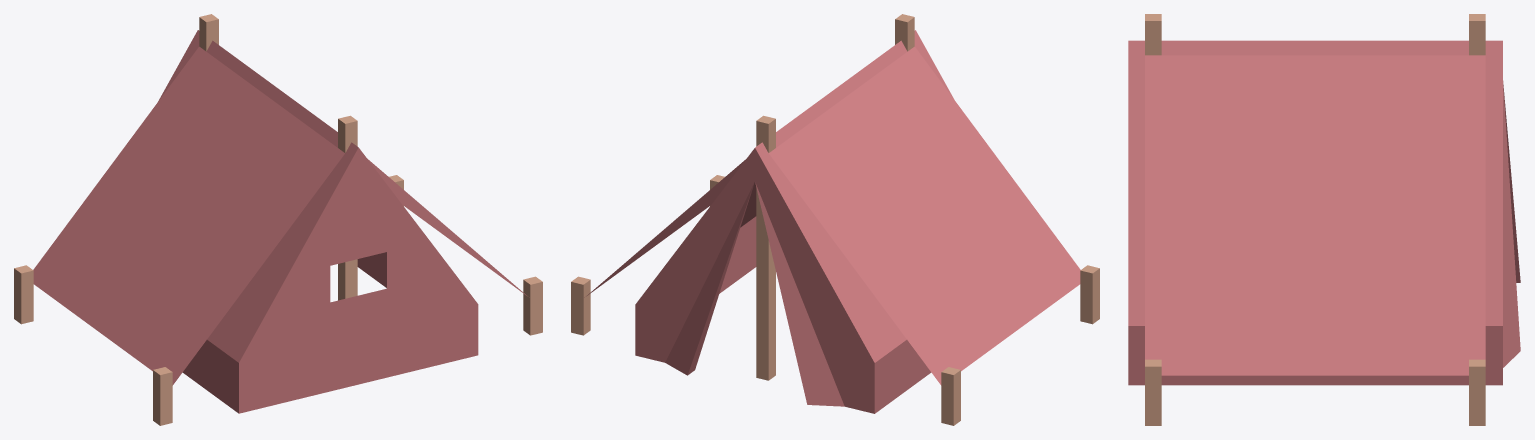
Rendered from tent_detailedOpen.glb.
3 renders of one model, left to right at view 1: azimuth 30°, elevation 25°; view 2: azimuth 150°, elevation 25°; view 3: azimuth 270°, elevation 25°, orthographic. The views are drawn at different scales.
Visible parts, largest first — view 1: tent_detailedOpen; view 2: tent_detailedOpen; view 3: tent_detailedOpen.
Boxes of the visible parts, x1=… form: tent_detailedOpen: x1=14, y1=14, x2=542, y2=425; tent_detailedOpen: x1=571, y1=14, x2=1099, y2=425; tent_detailedOpen: x1=1128, y1=14, x2=1520, y2=425.
Size of the model in its own units: 0.8749 by 0.5611 by 0.6664.
